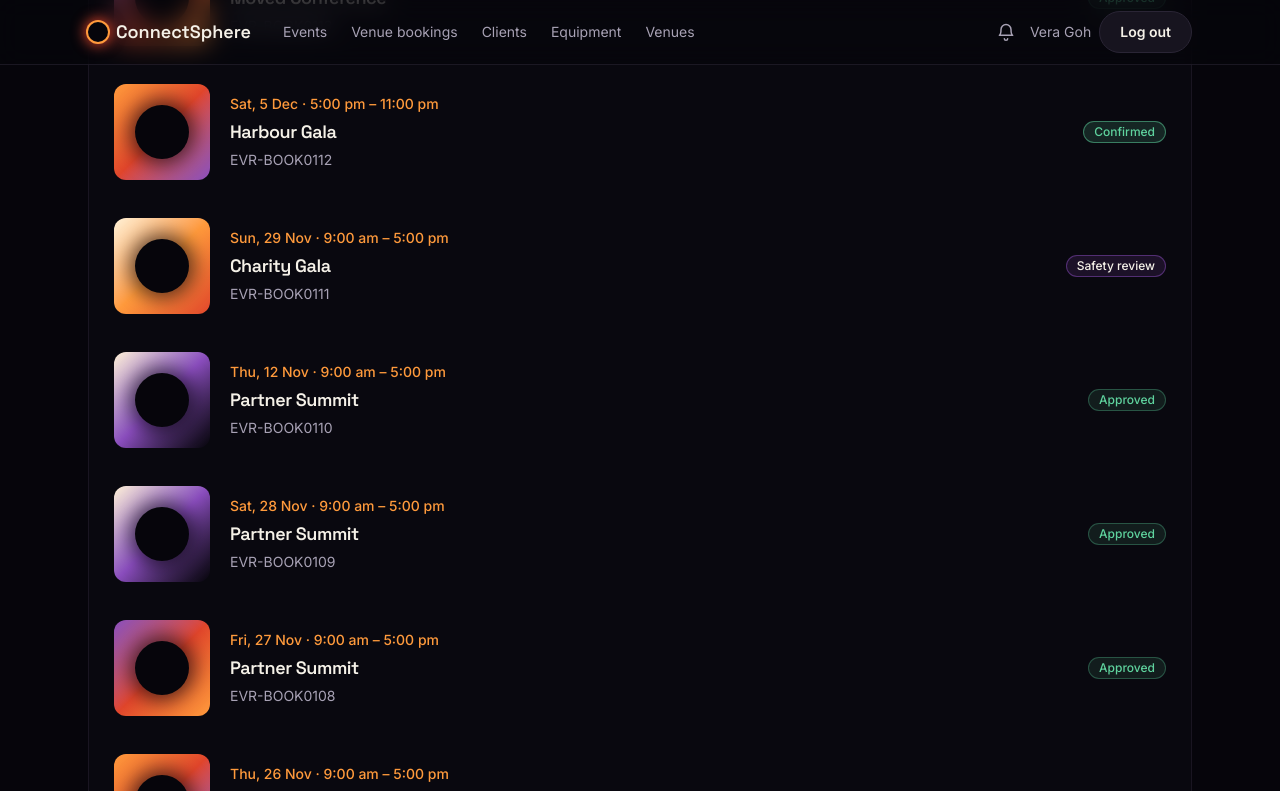
Test case: SCRUM-24 AC4 Staff home: the events with venue bookings, for Venue Staff › shows the record, with the venue's preparation, of the event a row opens
The width and height of the screenshot is (1280, 791).
(page scrolled)
Click the link that starts with "Thu, 12 Nov · 9:00 am – 5:00 pm" at (162, 400), box [97,335,1183,465]
(page scrolled)
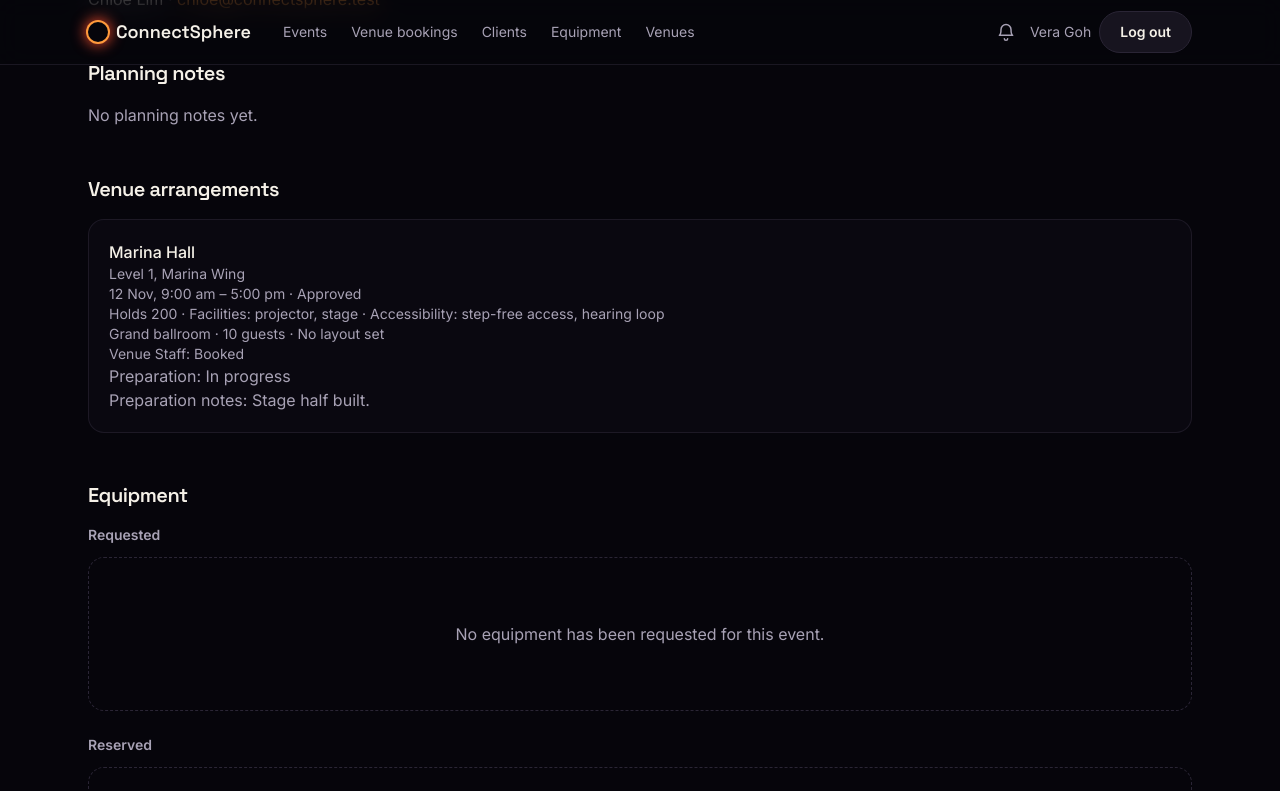
Now the text "Preparation notes: Stage half built." is shown, box [109,390,370,410]
